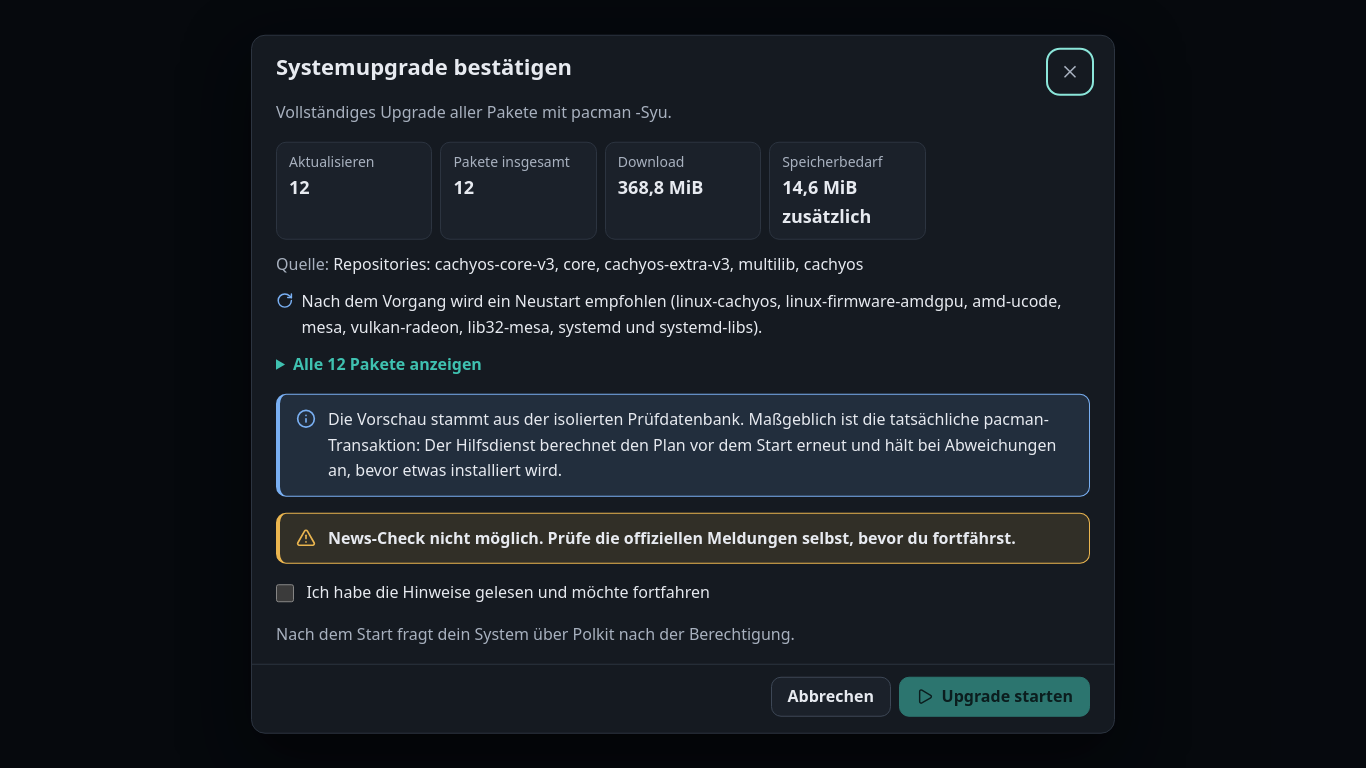
Test case: UpgradeDialog › requires the acknowledgement checkbox when the news check is not possible
Expected: the text "News-Check nicht möglich. Prüfe die offiziellen Meldungen selbst, bevor du fortfährst." is shown, 328,526 -> 1016,548
Expected: the button "Upgrade starten" is disabled, 899,676 -> 1090,716
Click the checkbox labelled "Ich habe die Hinweise gelesen und möchte fortfahren".
click(285, 593)  # box 276,584 -> 294,602
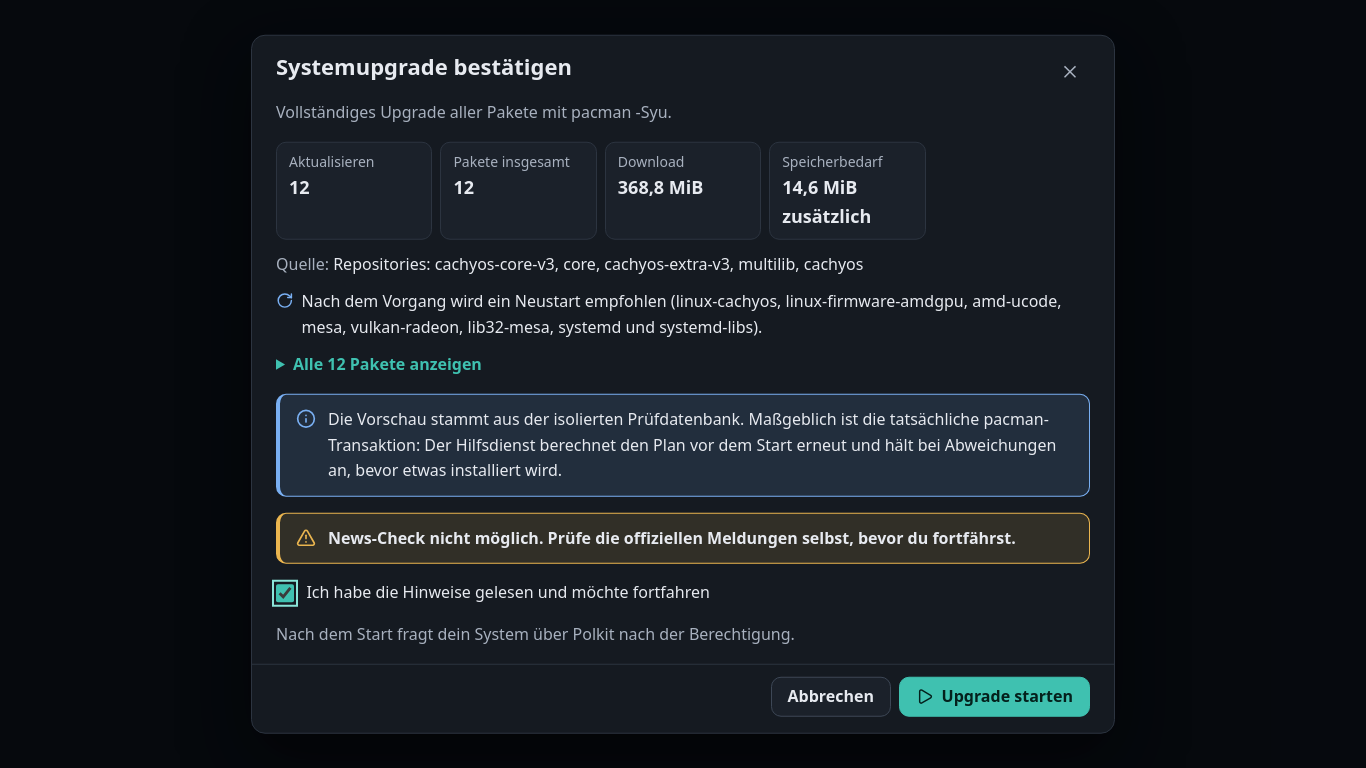
Expected: the button "Upgrade starten" is enabled, 899,676 -> 1090,716
